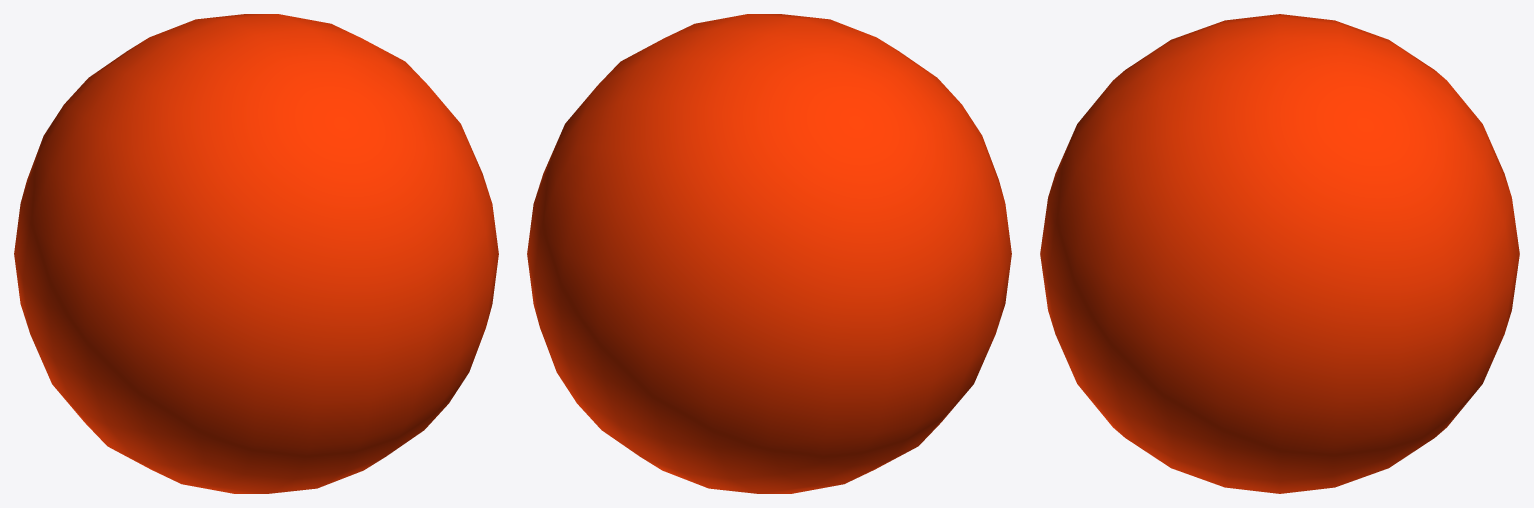
3 views of the same model, side by side, from view 1: azimuth 30°, elevation 25°; view 2: azimuth 150°, elevation 25°; view 3: azimuth 270°, elevation 25° (orthographic).
Parts seen in each view (by area): view 1: object_1; view 2: object_1; view 3: object_1.
Boxes of the visible parts, x1,y1,x2,y2 form: object_1: [14, 14, 498, 493]; object_1: [527, 14, 1011, 493]; object_1: [1040, 14, 1519, 493].
Size of the model in its own units: 1 by 1 by 1.
